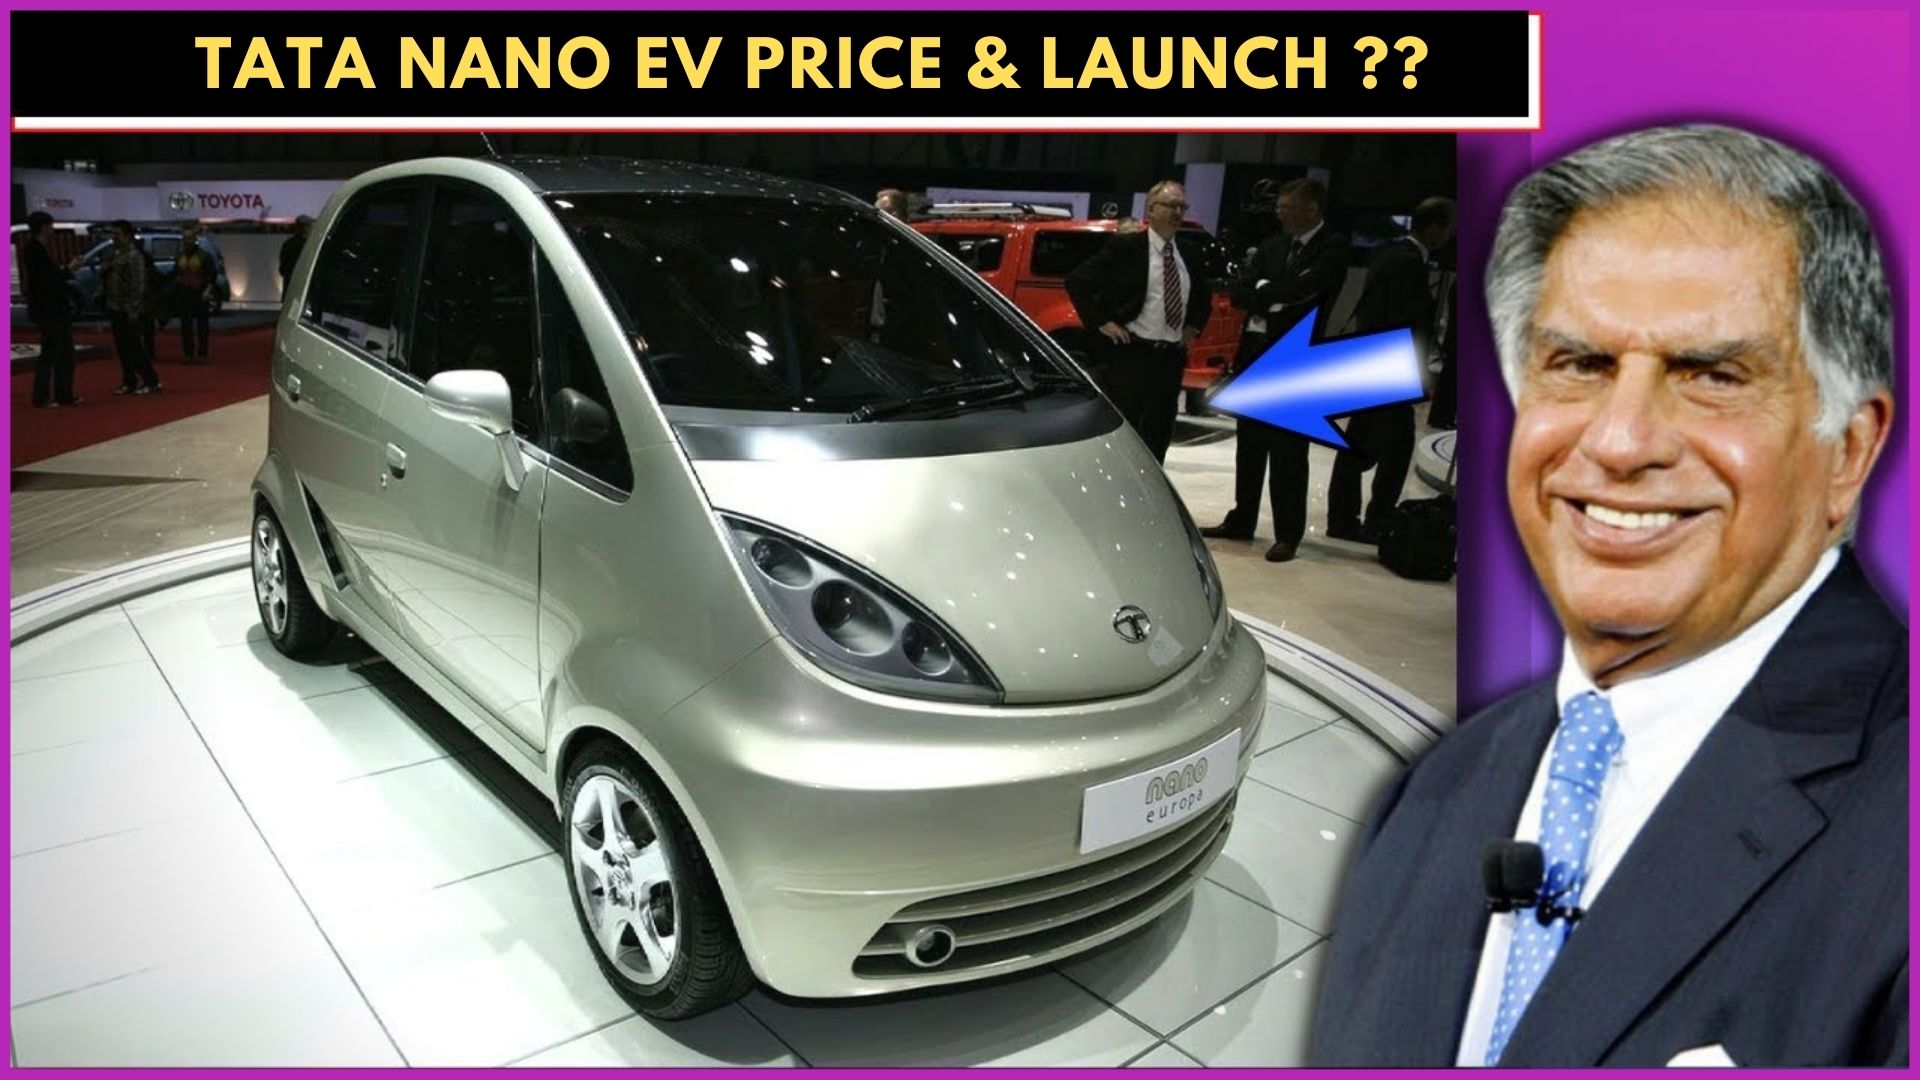Nano: (245, 160, 1273, 1038)
